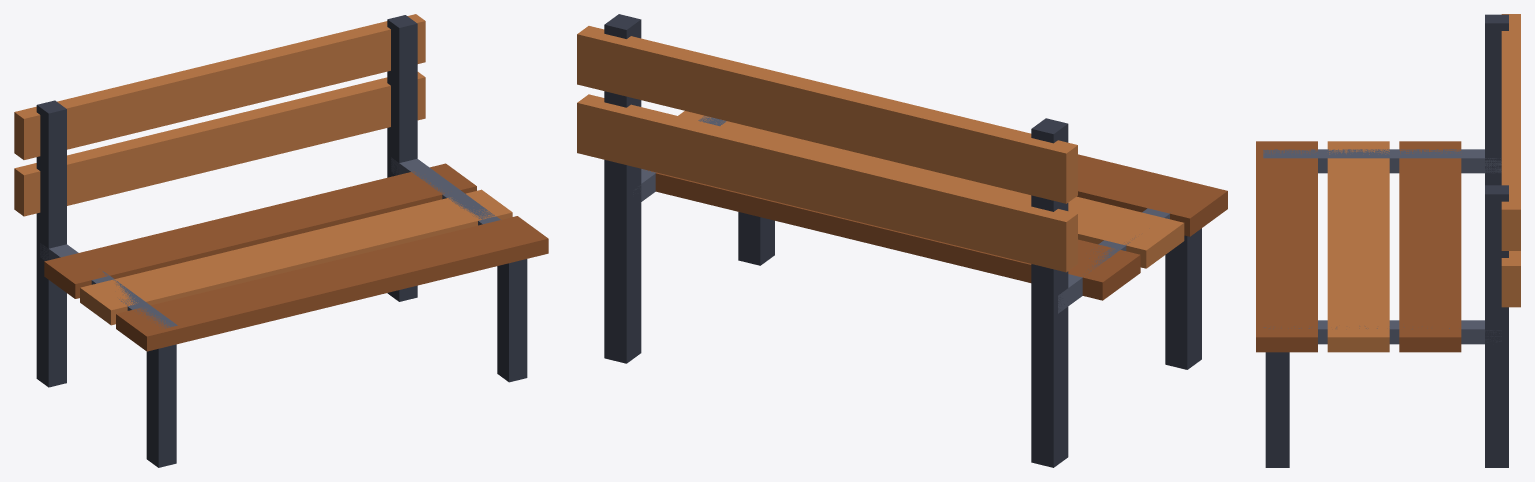
Rendered from bench.glb.
The picture shows the model from 3 angles, left to right: view 1: azimuth 30°, elevation 25°; view 2: azimuth 150°, elevation 25°; view 3: azimuth 270°, elevation 25°; orthographic projection. The views are drawn at different scales.
Parts seen in each view (by area): view 1: bench; view 2: bench; view 3: bench.
Boxes of the visible parts, bbox=[...] form: bench: bbox=[14, 14, 548, 467]; bench: bbox=[577, 14, 1227, 467]; bench: bbox=[1256, 14, 1520, 467].
Bounding box in the file's own units: 1.12 × 0.73 × 0.64.
Materials: 1 (1 with a texture image).
